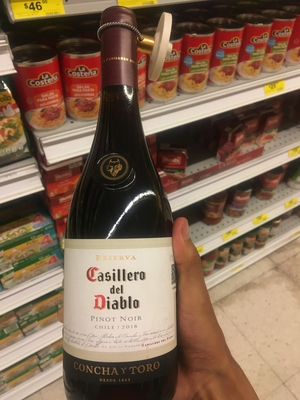casillero del diablo pinot noir: (51, 22, 203, 391)
